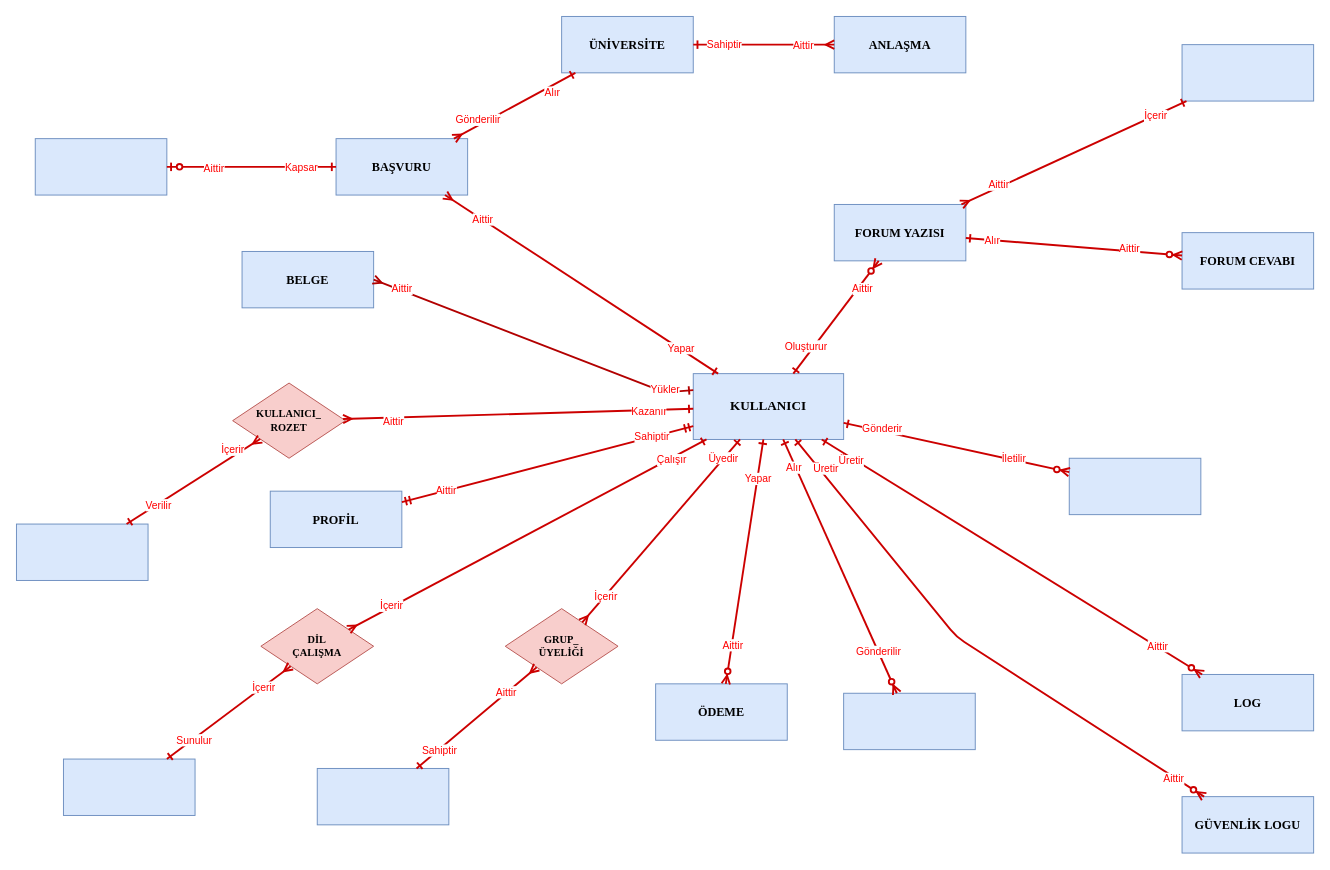
This 1330x870 diagram has some shape labels left out. Here are the shapes that lost their labels. From the top down, the centre of each, then its label:
At (x=1247, y=72): "KATEGORİ".
At (x=100, y=166): "SEYAHAT".
At (x=1134, y=486): "MESAJ".
At (x=82, y=551): "ROZET".
At (x=909, y=721): "BİLDİRİM".
At (x=129, y=786): "DİL İÇERİĞİ".
At (x=382, y=796): "GRUP".
